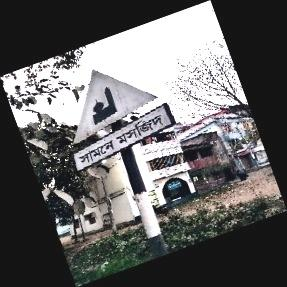Mosque in front: (71, 69, 174, 174)
